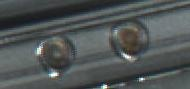joints: (34, 33, 77, 76), (109, 18, 149, 61)
